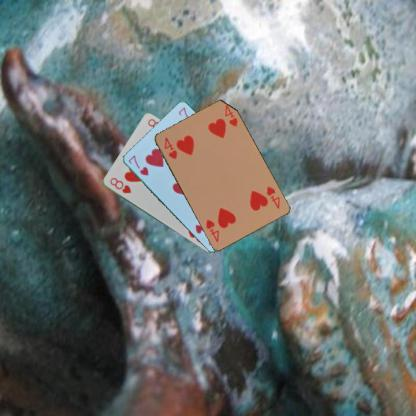4h: (262, 184, 281, 209), (161, 134, 179, 160)
7h: (125, 152, 150, 177)
8h: (107, 175, 132, 195)
